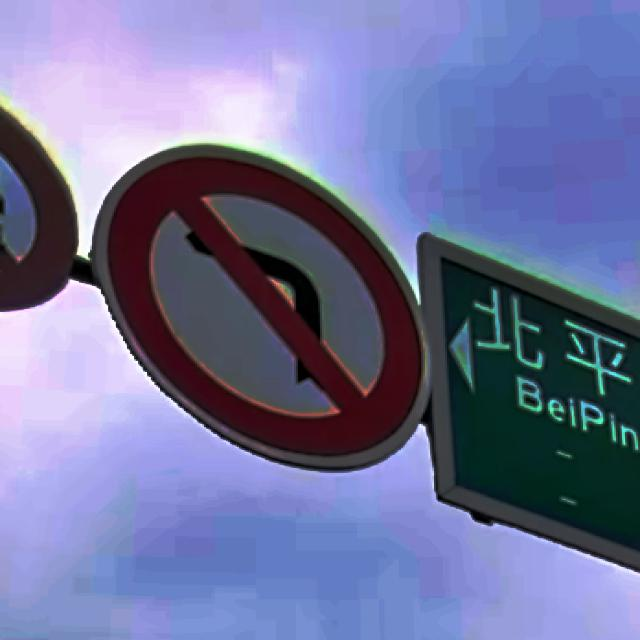noturnleft: (109, 156, 423, 456)
